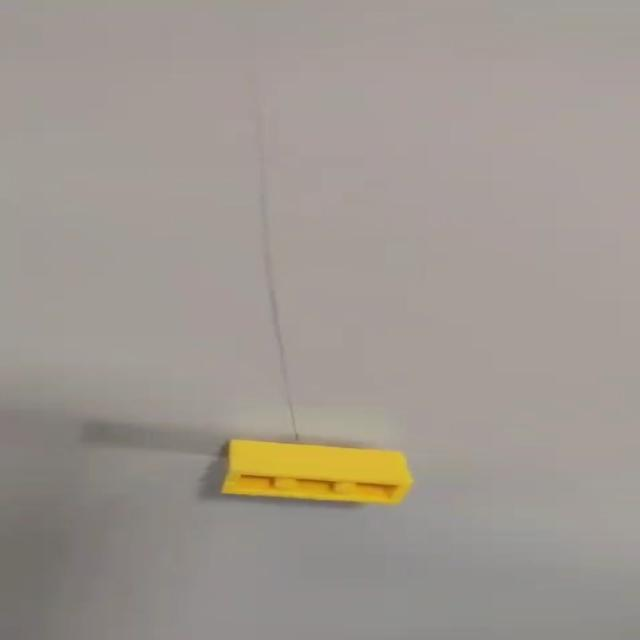C3x1x1: (221, 434, 412, 511)
